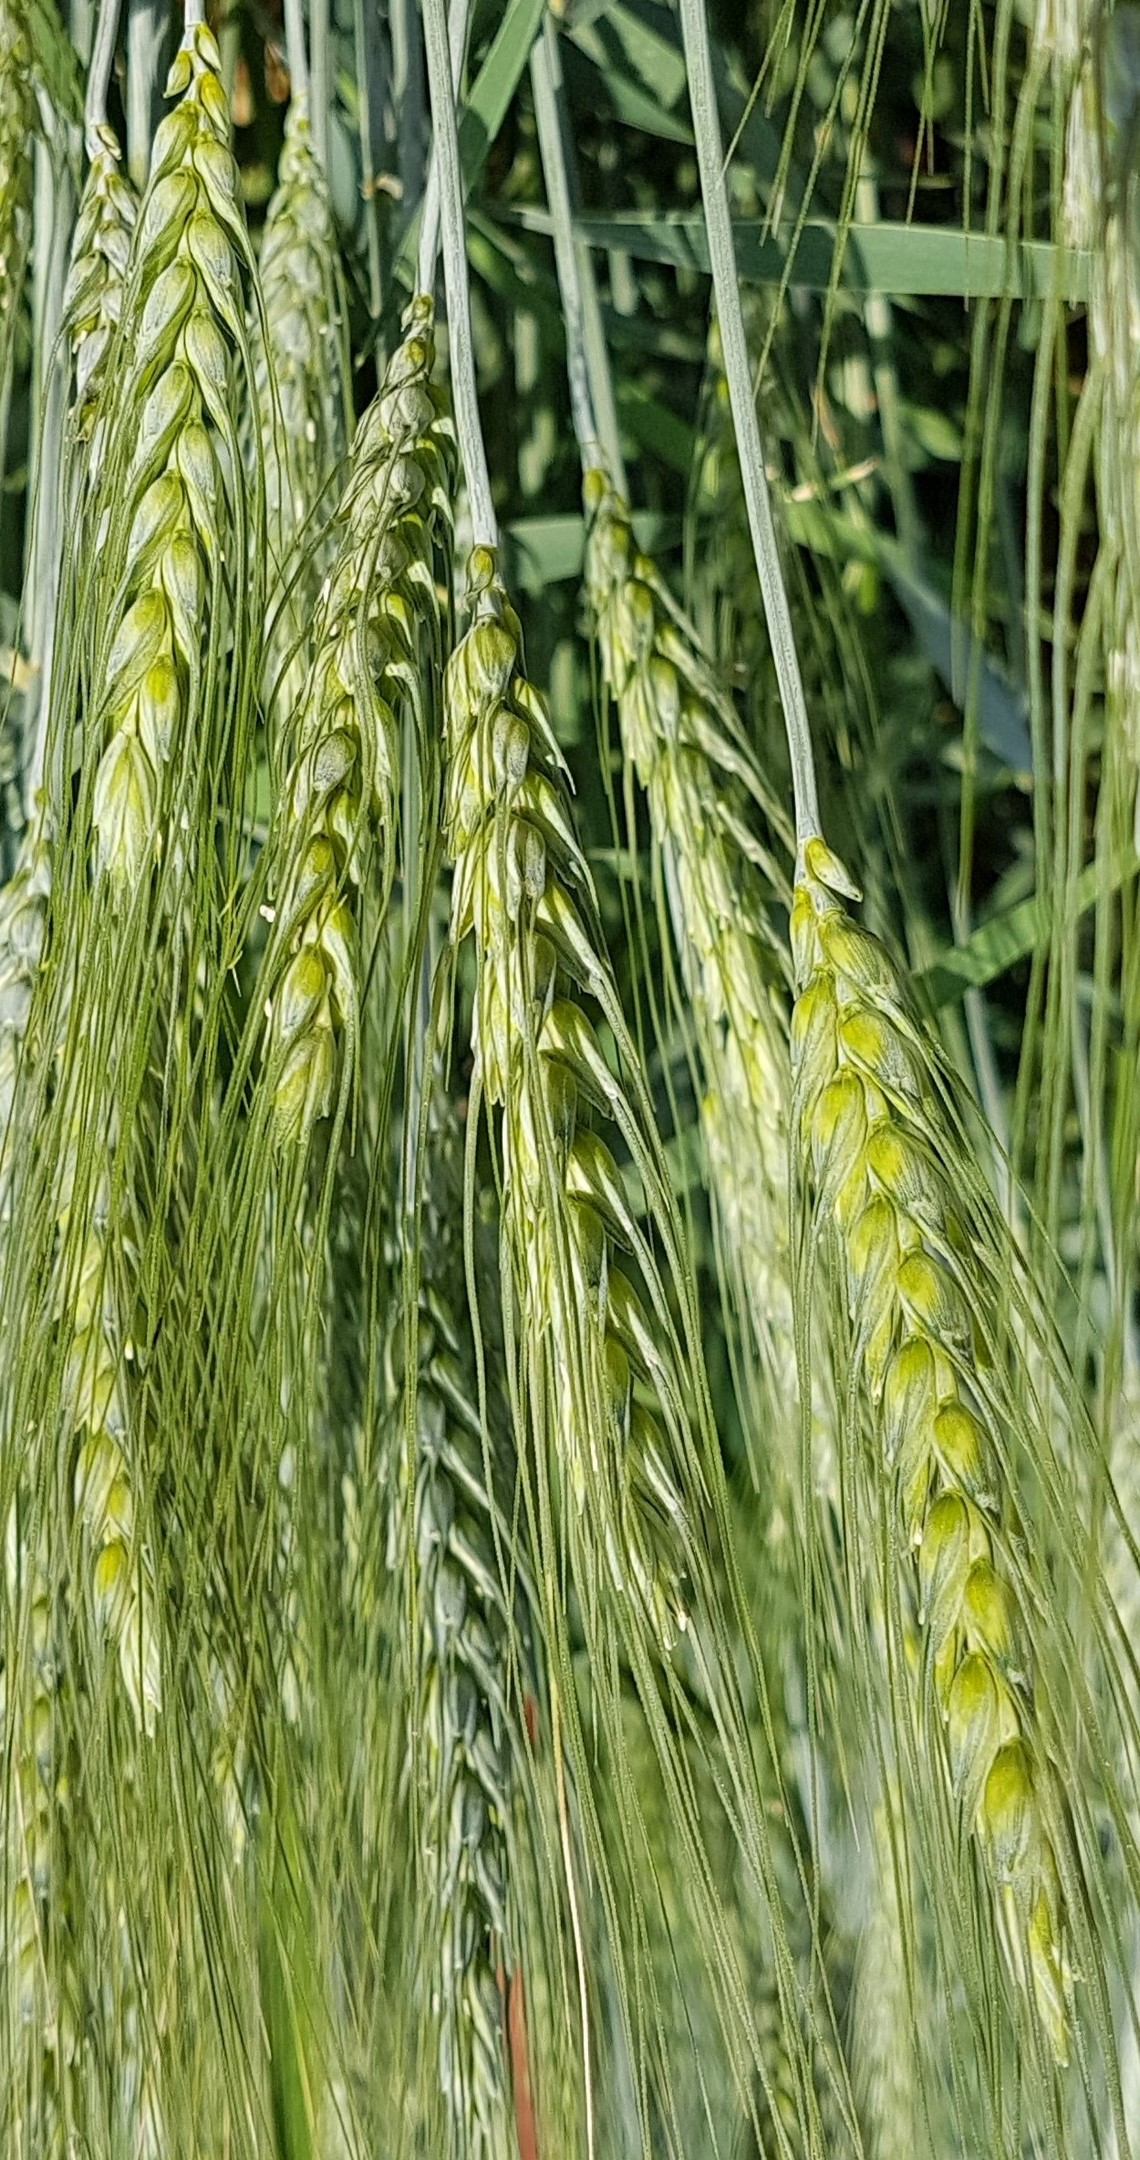Healthy Wheat: (760, 831, 1140, 1974), (420, 559, 731, 1599), (71, 49, 269, 921)
